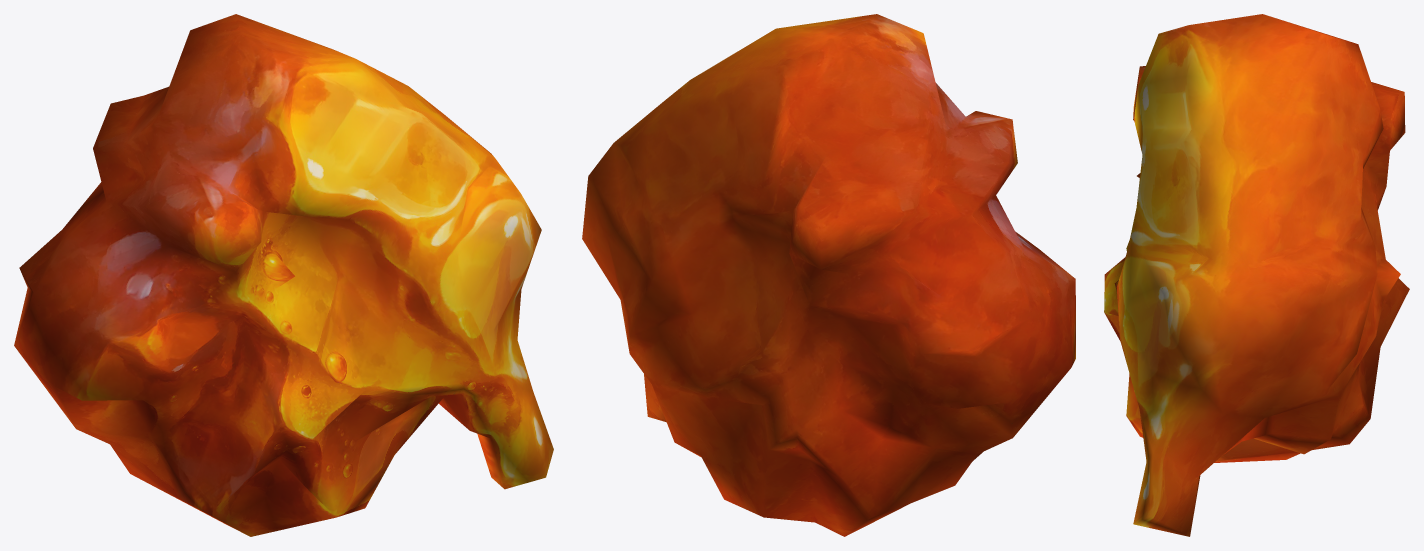
The model's file is resina-v1.glb.
The picture shows the model from 3 angles, left to right: view 1: azimuth 30°, elevation 25°; view 2: azimuth 150°, elevation 25°; view 3: azimuth 270°, elevation 25°; orthographic projection. The views are drawn at different scales.
Visible parts, largest first — view 1: tripo_node_dd075ee0-9f33-4f5e-ac9a-f4571658b570; view 2: tripo_node_dd075ee0-9f33-4f5e-ac9a-f4571658b570; view 3: tripo_node_dd075ee0-9f33-4f5e-ac9a-f4571658b570.
Part boxes in pixels (x1,y1,x2,y2): tripo_node_dd075ee0-9f33-4f5e-ac9a-f4571658b570: (14,14,553,536); tripo_node_dd075ee0-9f33-4f5e-ac9a-f4571658b570: (582,14,1075,536); tripo_node_dd075ee0-9f33-4f5e-ac9a-f4571658b570: (1104,14,1409,536).
Size of the model in its own units: 0.9848 by 0.9344 by 0.6002.
Materials: 1 (1 with a texture image).
